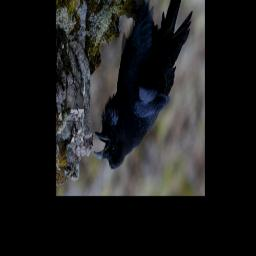Crow: (93, 0, 193, 171)
